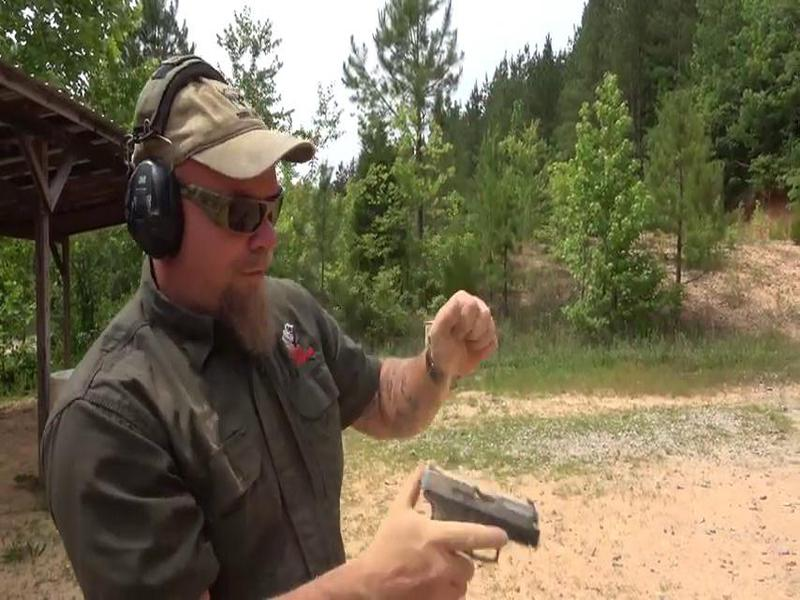Pistola: (403, 443, 559, 593)
